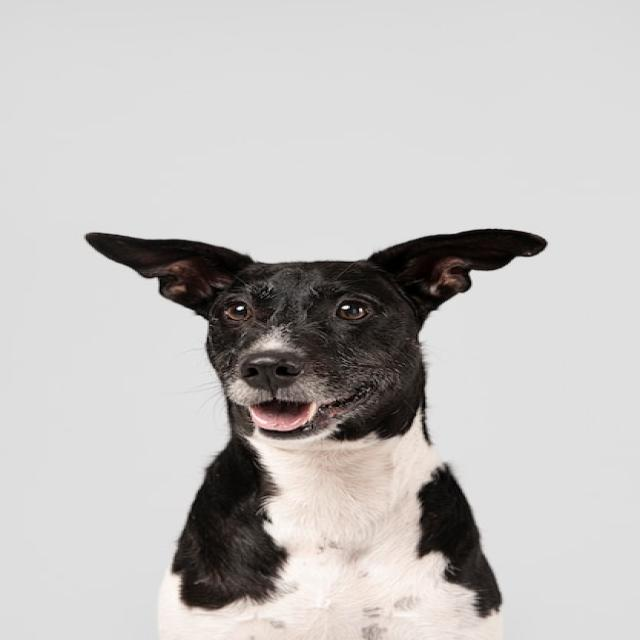Dog: (84, 228, 548, 640)
